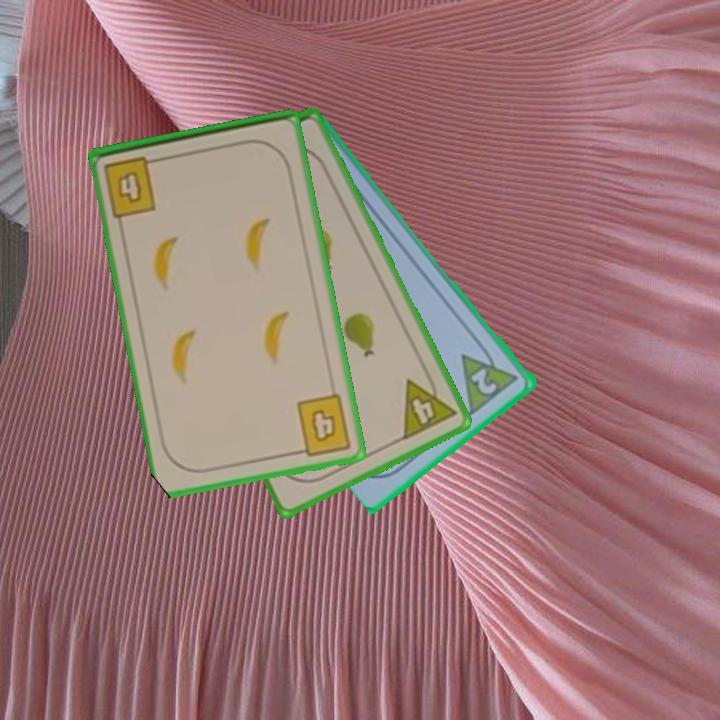2p: (457, 338, 523, 417)
4b: (100, 152, 165, 220), (291, 390, 355, 459)
4p: (399, 367, 460, 443)
